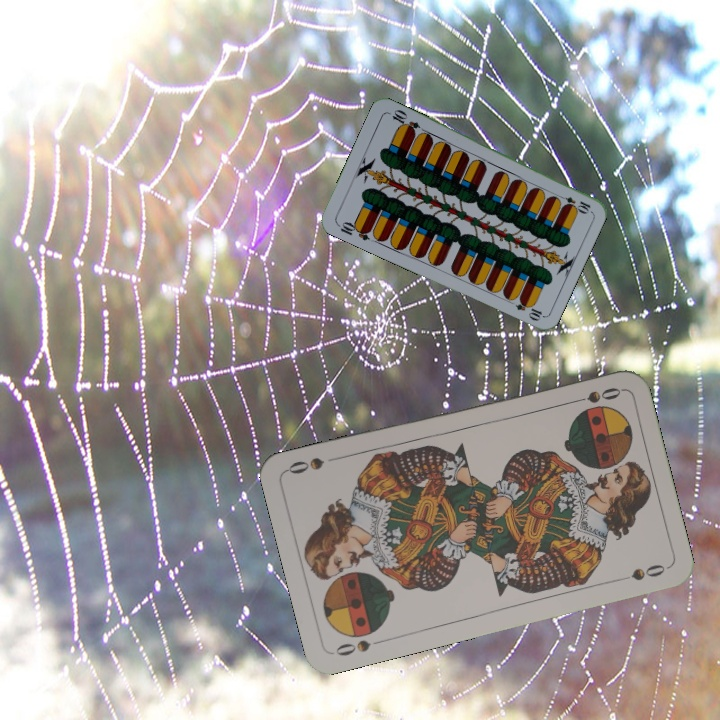E10: (333, 217, 373, 243), (553, 191, 593, 215)
SO: (565, 383, 624, 407), (331, 635, 388, 659)
